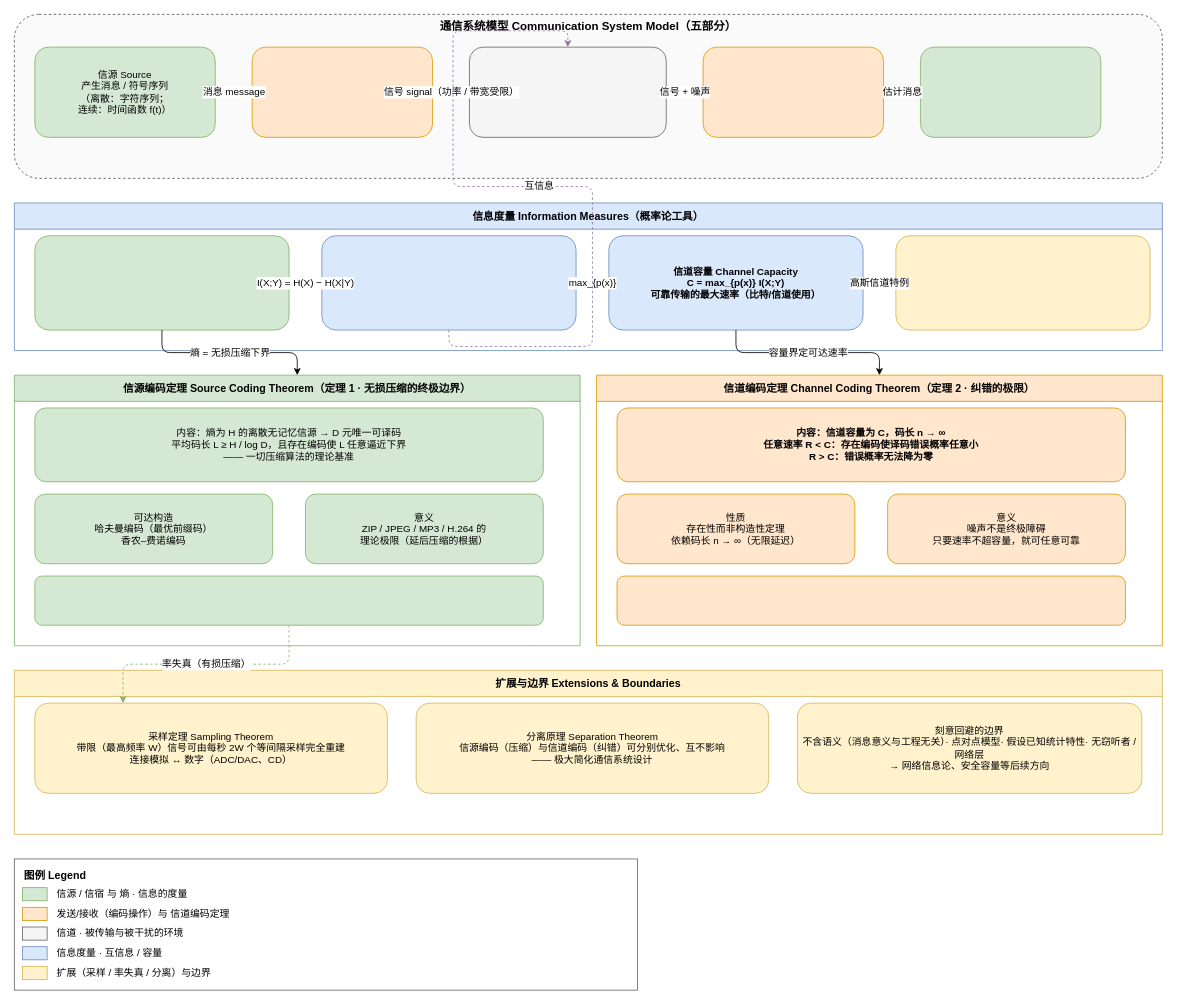
Some shapes in this 1177 by 1005 pixel diagram are drawn without their labels. Here are the shapes that lost their labels. From the top down, the centre of each, then its label:
point 342,91: 发送器 Transmitter 消息 → 信号 （编码 / 调制 / 量化）
point 567,91: 信道 Channel（含噪声） 带宽 W · 信噪比 S/N （一对导线 / 频段 / 光束）
point 793,91: 接收器 Receiver 信号 → 消息 （译码 / 解调）
point 1010,91: 信宿 Destination 接收消息的人或物 （复现：准确或近似）
point 161,282: 熵 Entropy（核心新概念） H(X) = −Σ p(x) log₂ p(x) 比特/符号 平均不确定度 = 表示所需最少比特数
point 448,282: 互信息 Mutual Information I(X;Y) = H(X) − H(X|Y) 信道实际传输的信息速率
point 1022,282: AWGN 闭式（高斯信道） C = W log2 (1 + S/N) 比特/秒 带宽 × 功率 × 速率的三元折中 —— 无线通信第一性原理
point 288,600: 扩展：率失真理论（有损压缩边界）R = W1 log2(Q/N) （近似复现场景下的信源编码定理）
point 870,600: 逼近香农极限的纠错码：卷积 → Turbo → LDPC → Polar（首个被严格证明达到极限的实用码）
